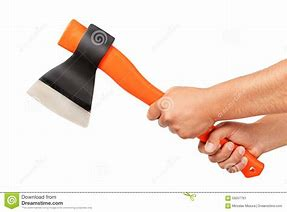axe: (25, 17, 267, 179)
